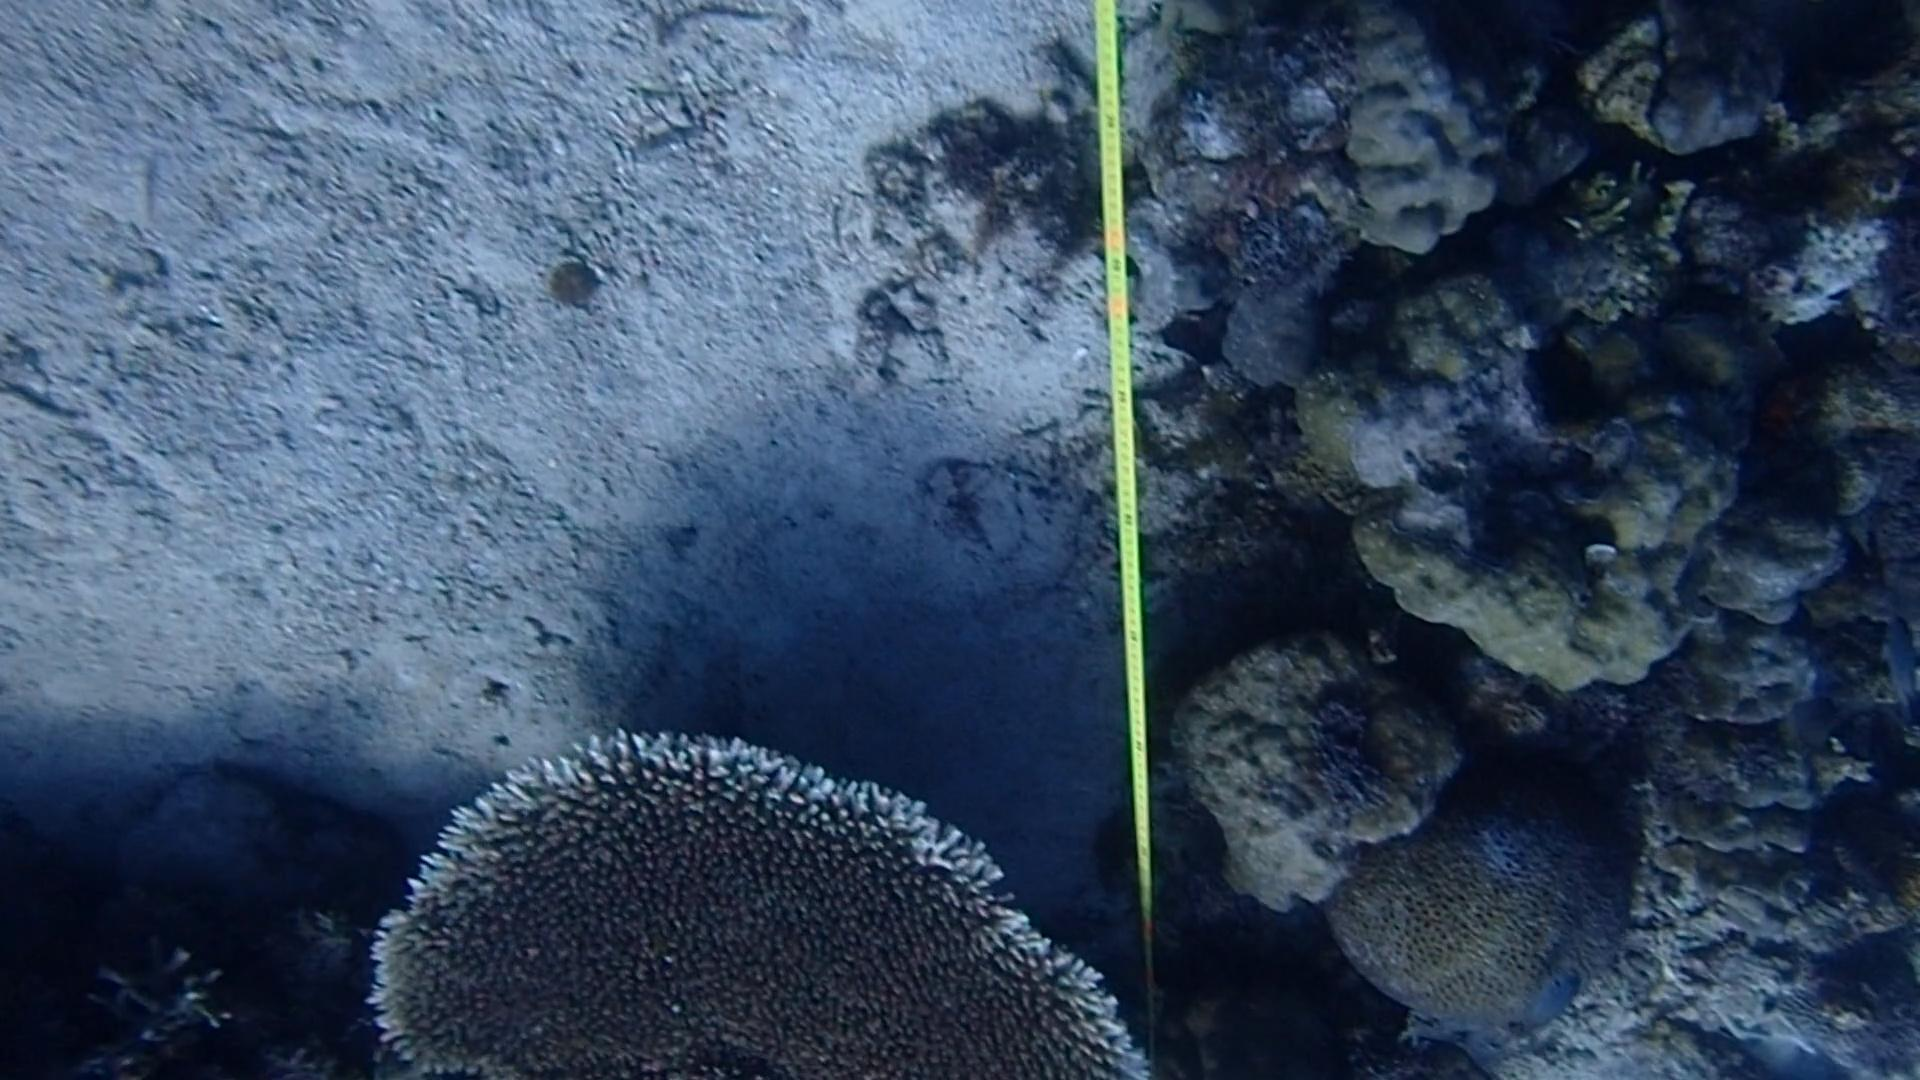Light Fish: (1854, 613, 1920, 735), (1514, 961, 1598, 1042)
